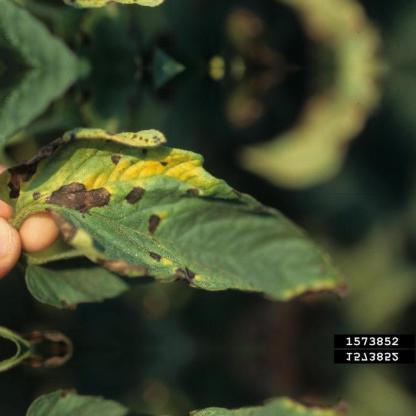Early-Blight: (0, 111, 368, 329), (0, 368, 368, 416)
